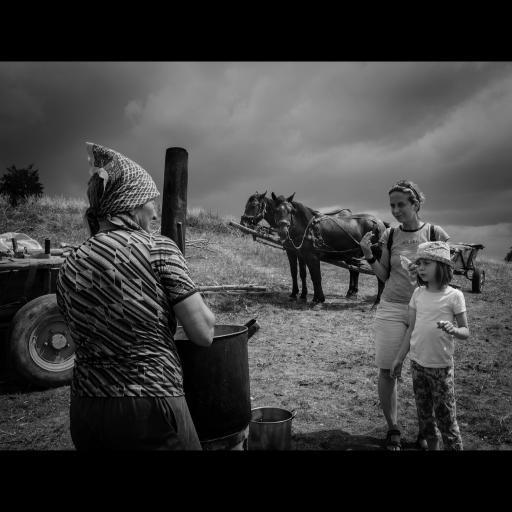horse: (236, 188, 360, 306), (271, 192, 391, 306)
